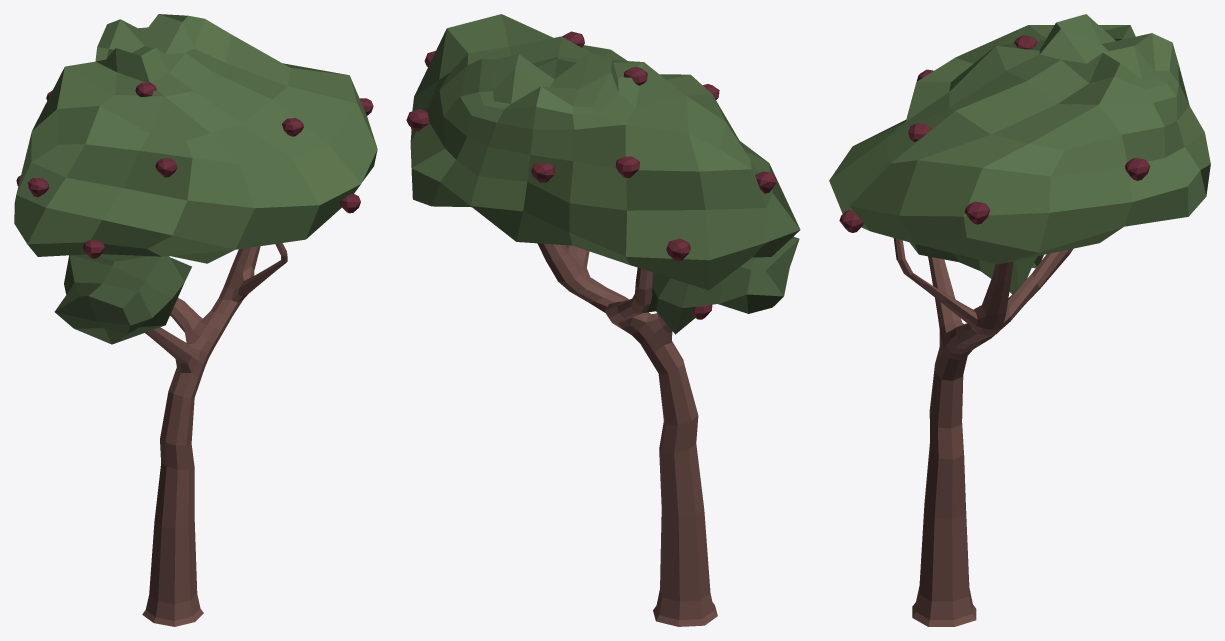
Rendered from apple-tree.glb.
3 renders of one model, left to right at view 1: azimuth 30°, elevation 25°; view 2: azimuth 150°, elevation 25°; view 3: azimuth 270°, elevation 25°, orthographic. The views are drawn at different scales.
Parts seen in each view (by area): view 1: Apple_4; view 2: Apple_4; view 3: Apple_4.
Boxes of the visible parts, x1,y1,x2,y2 form: Apple_4: (14, 14, 377, 626); Apple_4: (406, 14, 800, 626); Apple_4: (829, 14, 1210, 626).
Bounding box in the file's own units: 3.73 × 5.53 × 3.16.
